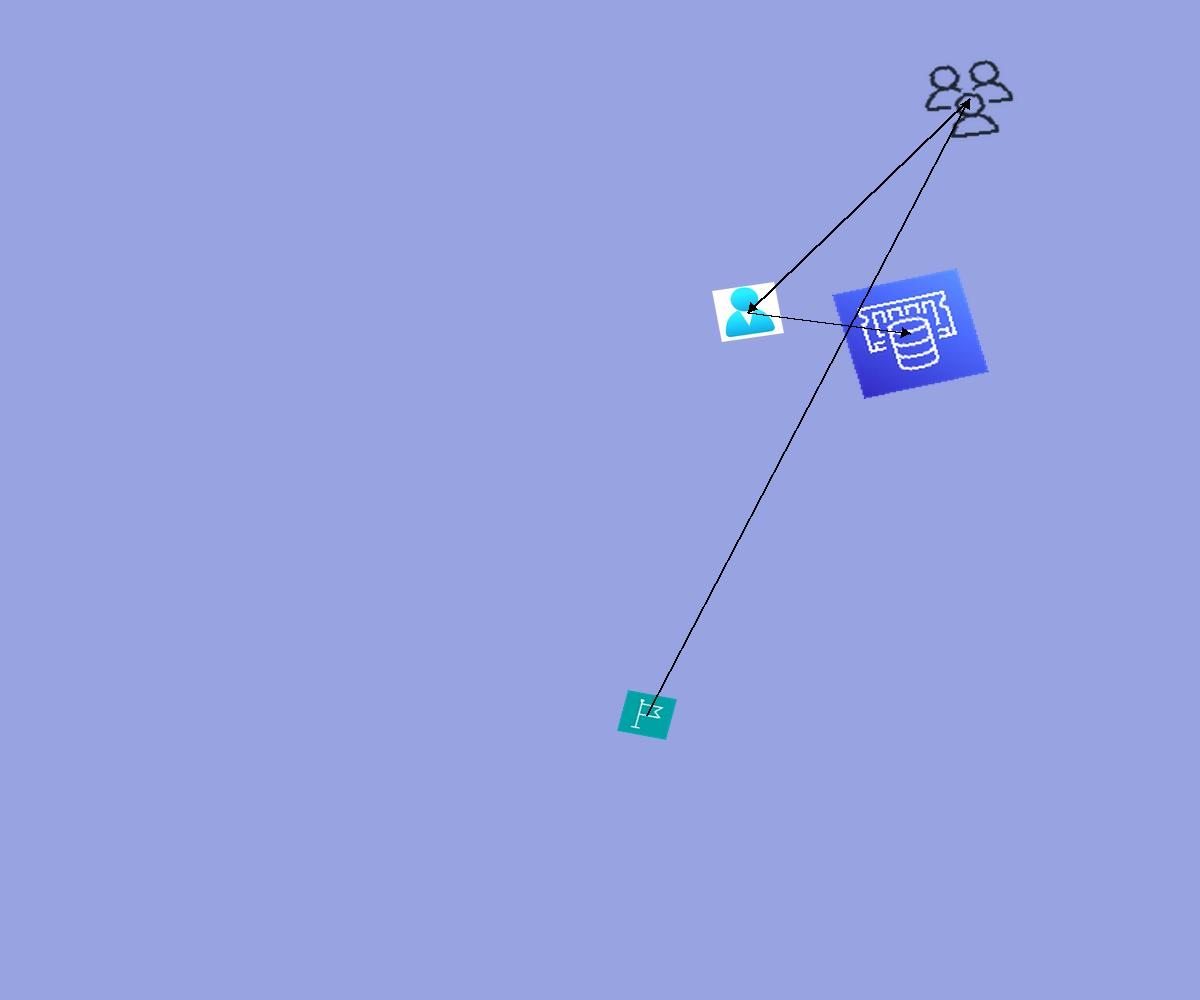AWS-ElastiCache: (832, 268, 989, 399)
AWS-Region: (617, 690, 677, 740)
AWS-Res_Users: (913, 53, 1025, 146)
Azure_users: (712, 282, 784, 342)
